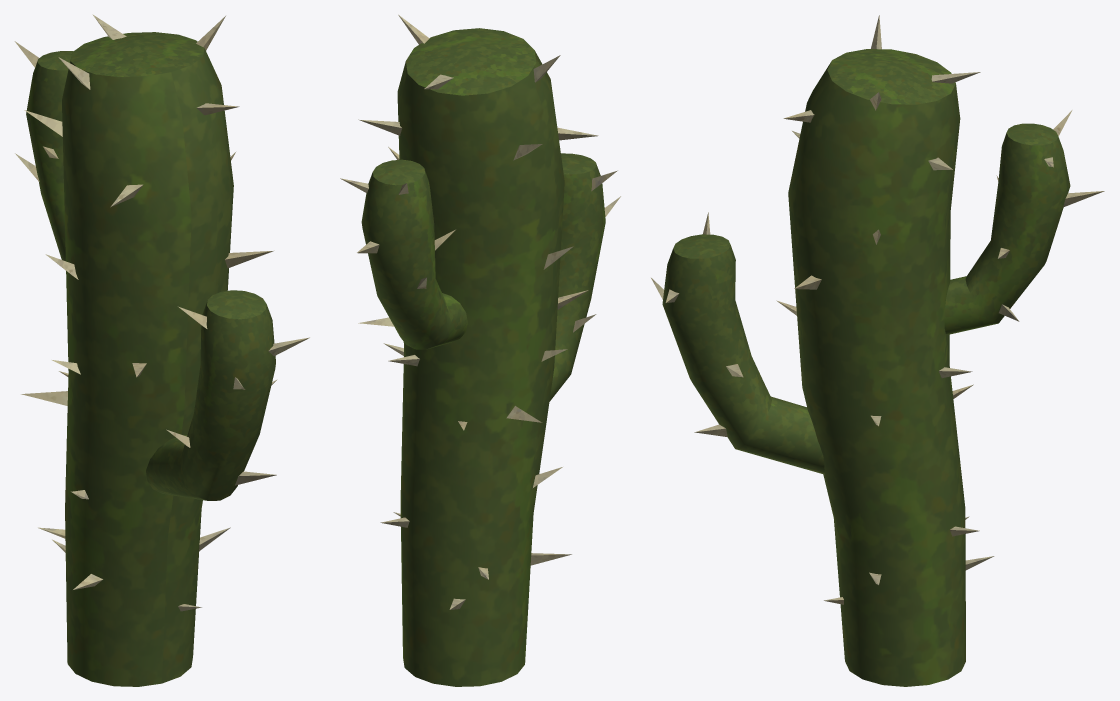
File: Sm_CactusVer1.fbx
The picture shows the model from 3 angles, left to right: view 1: azimuth 30°, elevation 25°; view 2: azimuth 150°, elevation 25°; view 3: azimuth 270°, elevation 25°; orthographic projection. The views are drawn at different scales.
Parts seen in each view (by area): view 1: Sm_CactusVer1; view 2: Sm_CactusVer1; view 3: Sm_CactusVer1.
Part boxes in pixels (<box>): Sm_CactusVer1: <box>14,14,309,686</box>; Sm_CactusVer1: <box>340,14,620,686</box>; Sm_CactusVer1: <box>651,15,1104,686</box>.
Bounding box in the file's own units: 31.32 × 96.63 × 65.61.
